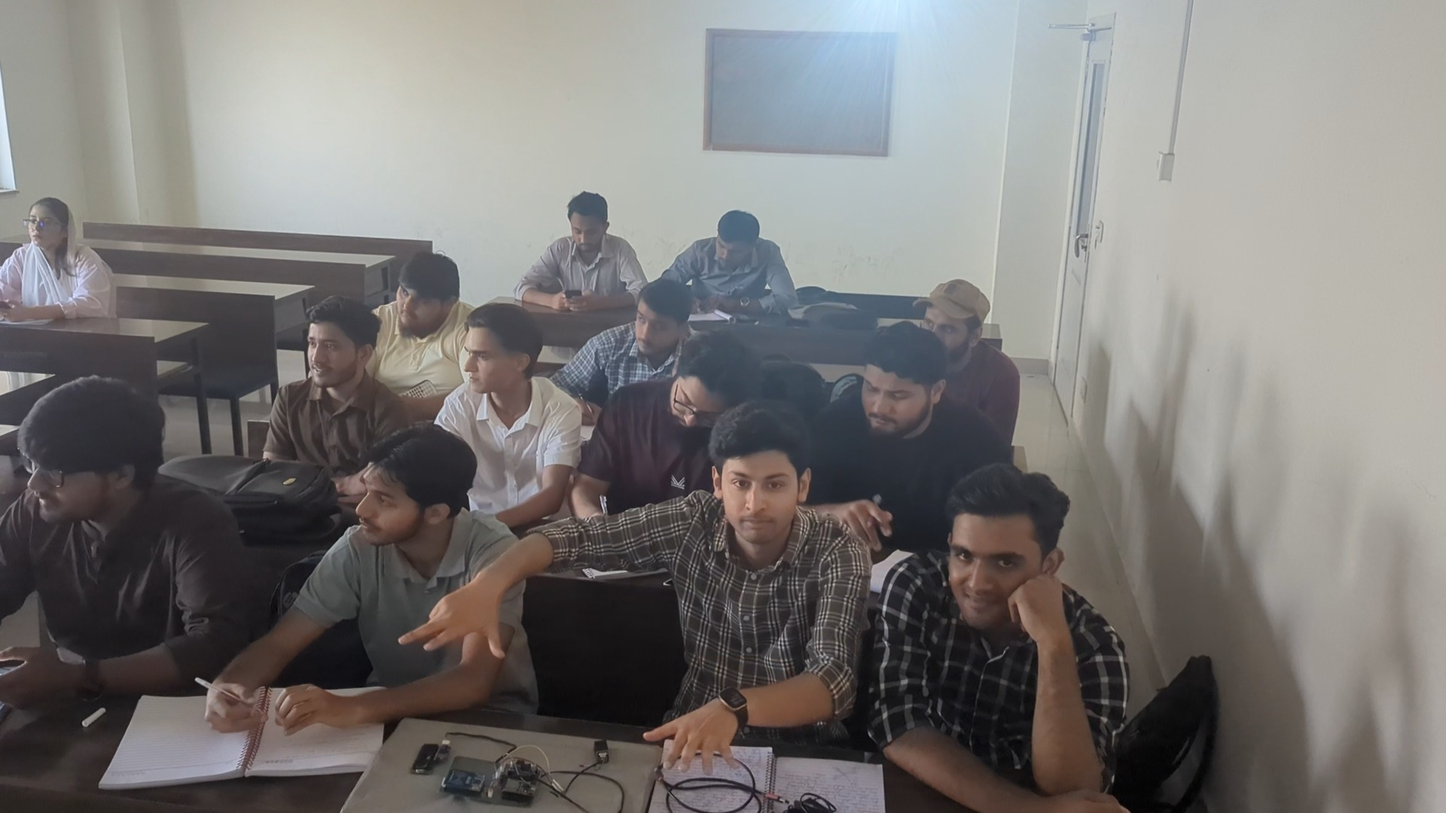handrise: (394, 398, 867, 784)
look_forward: (874, 463, 1130, 803), (2, 379, 238, 722), (321, 424, 526, 702), (263, 295, 410, 472), (443, 306, 580, 472), (828, 322, 963, 473), (2, 191, 124, 328), (374, 252, 470, 399), (933, 273, 1017, 406), (583, 281, 693, 379)
using_device: (516, 189, 644, 314)
write: (669, 215, 809, 320)
